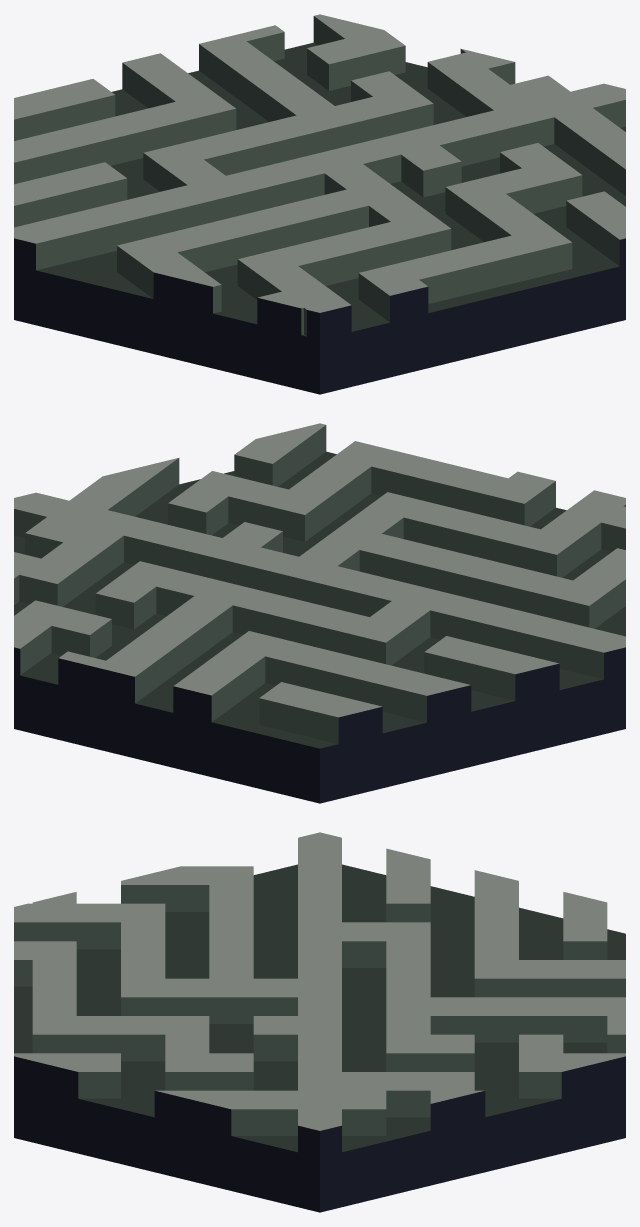
Rendered from SM_Secret_02.fbx.
3 renders of one model, top to bottom at view 1: azimuth 30°, elevation 25°; view 2: azimuth 150°, elevation 25°; view 3: azimuth 270°, elevation 25°, orthographic.
Visible parts, largest first — view 1: SM_Secret_02; view 2: SM_Secret_02; view 3: SM_Secret_02.
Part boxes in pixels (box(x1,y1,x2,y2)): SM_Secret_02: box(14, 14, 625, 394); SM_Secret_02: box(14, 423, 625, 803); SM_Secret_02: box(14, 832, 625, 1212).
Size of the model in its own units: 47.94 by 6.11 by 41.52.
Materials: 1 (1 with a texture image).
